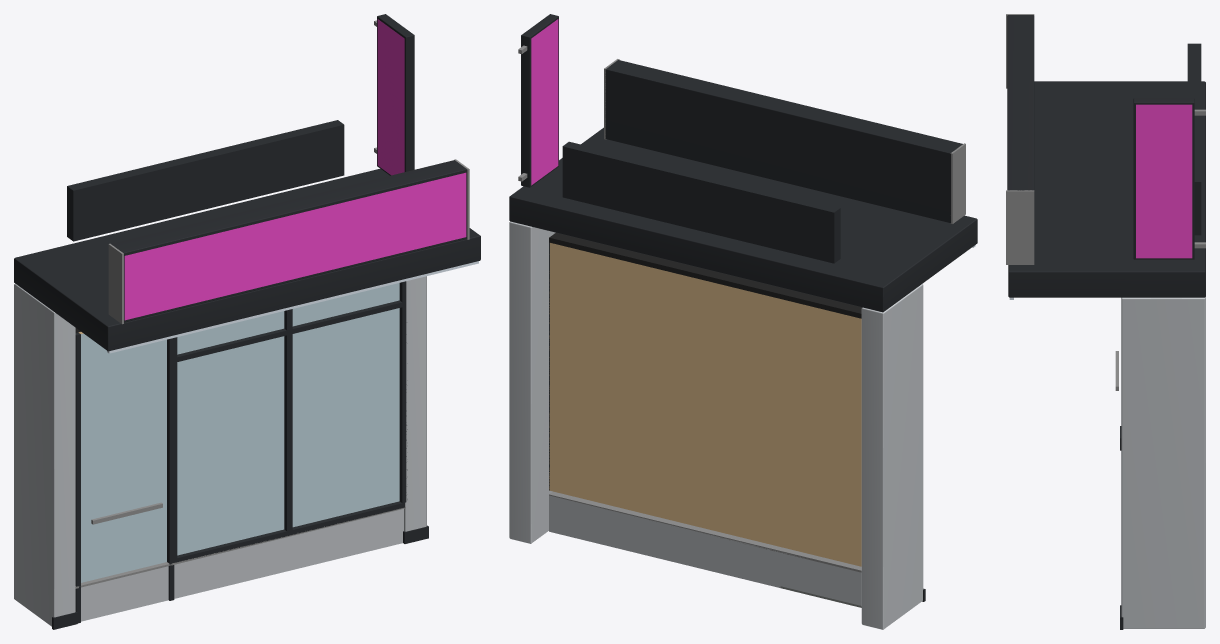
File: St_Shop_Pharmacy_A.fbx
The picture shows the model from 3 angles, left to right: view 1: azimuth 30°, elevation 25°; view 2: azimuth 150°, elevation 25°; view 3: azimuth 270°, elevation 25°; orthographic projection. The views are drawn at different scales.
Parts seen in each view (by area): view 1: St_Shop_Pharmacy_A_LOD0; view 2: St_Shop_Pharmacy_A_LOD0; view 3: St_Shop_Pharmacy_A_LOD0.
Part boxes in pixels (left/top/right/bottom): St_Shop_Pharmacy_A_LOD0: left=14, top=14, right=480, bottom=629; St_Shop_Pharmacy_A_LOD0: left=509, top=14, right=977, bottom=629; St_Shop_Pharmacy_A_LOD0: left=1006, top=14, right=1205, bottom=629.
Size of what is drawn, in the model's own units: 4.02 by 5.12 by 1.77.
